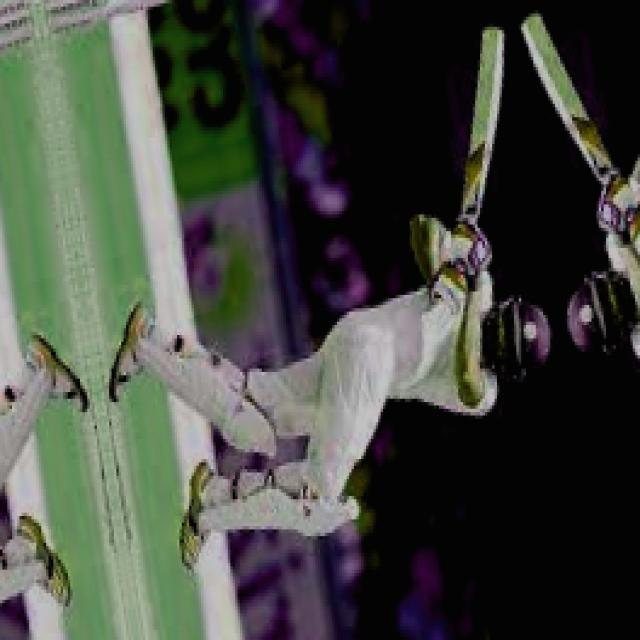toe: (480, 22, 504, 46)
